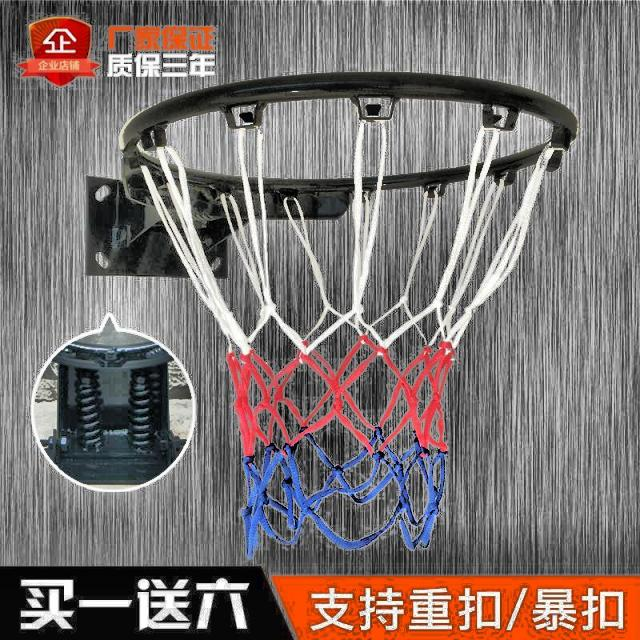rim: (142, 74, 578, 544)
